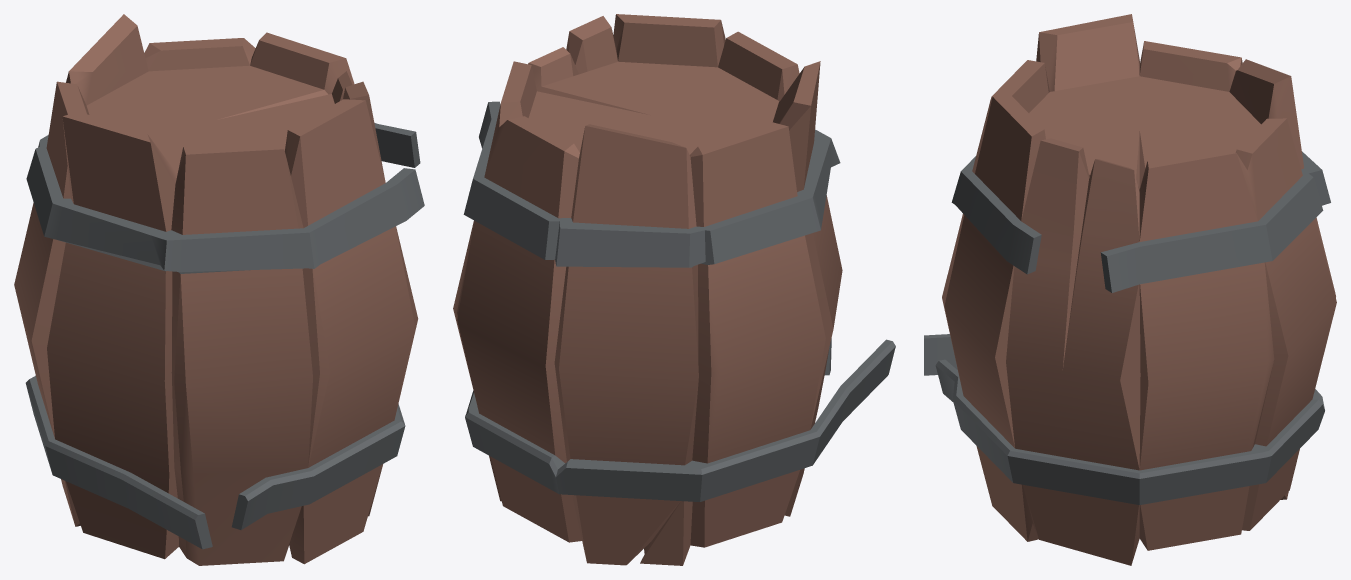
The model's file is SM_Barrel_02.fbx.
3 views of the same model, side by side, from view 1: azimuth 30°, elevation 25°; view 2: azimuth 150°, elevation 25°; view 3: azimuth 270°, elevation 25° (orthographic). The views are drawn at different scales.
Visible parts, largest first — view 1: Barrel_02; view 2: Barrel_02; view 3: Barrel_02.
Boxes of the visible parts, left/top/right/bottom form: Barrel_02: left=14, top=14, right=424, bottom=565; Barrel_02: left=453, top=14, right=895, bottom=565; Barrel_02: left=924, top=14, right=1336, bottom=565.
Bounding box in the file's own units: 57.63 × 66.21 × 58.52.
